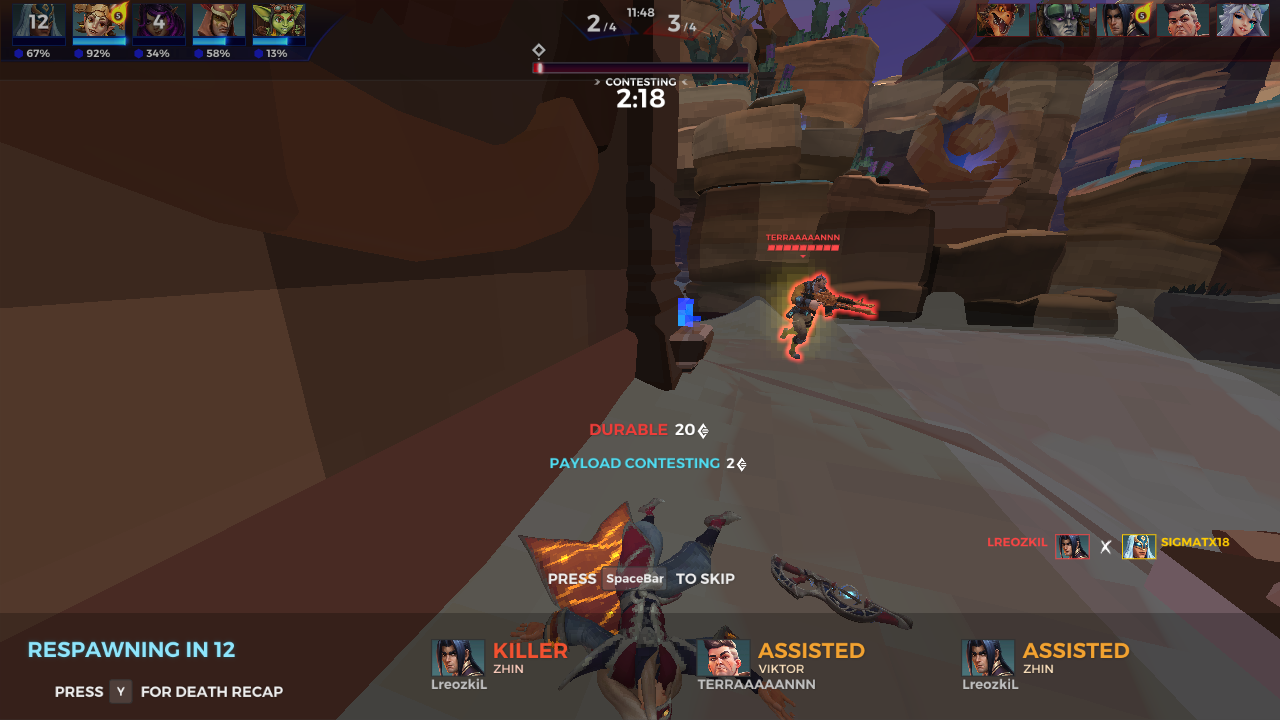model: (772, 266, 877, 365)
